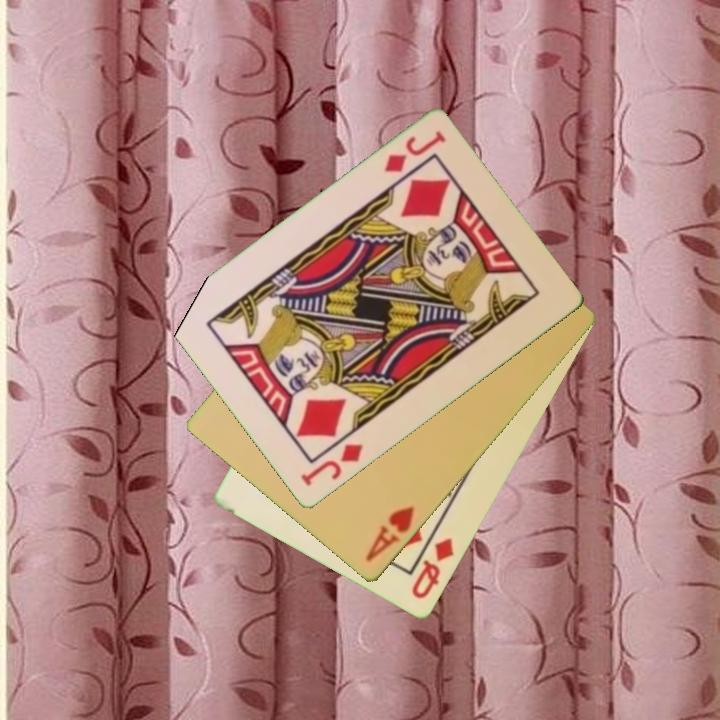Ah: (362, 503, 418, 565)
Jd: (297, 440, 366, 490), (380, 127, 449, 176)
Qd: (408, 534, 457, 603)
